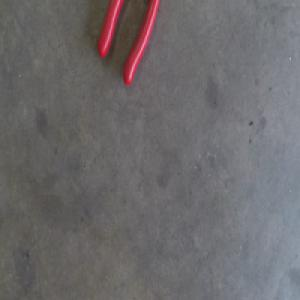Pliers: (98, 0, 160, 88)
